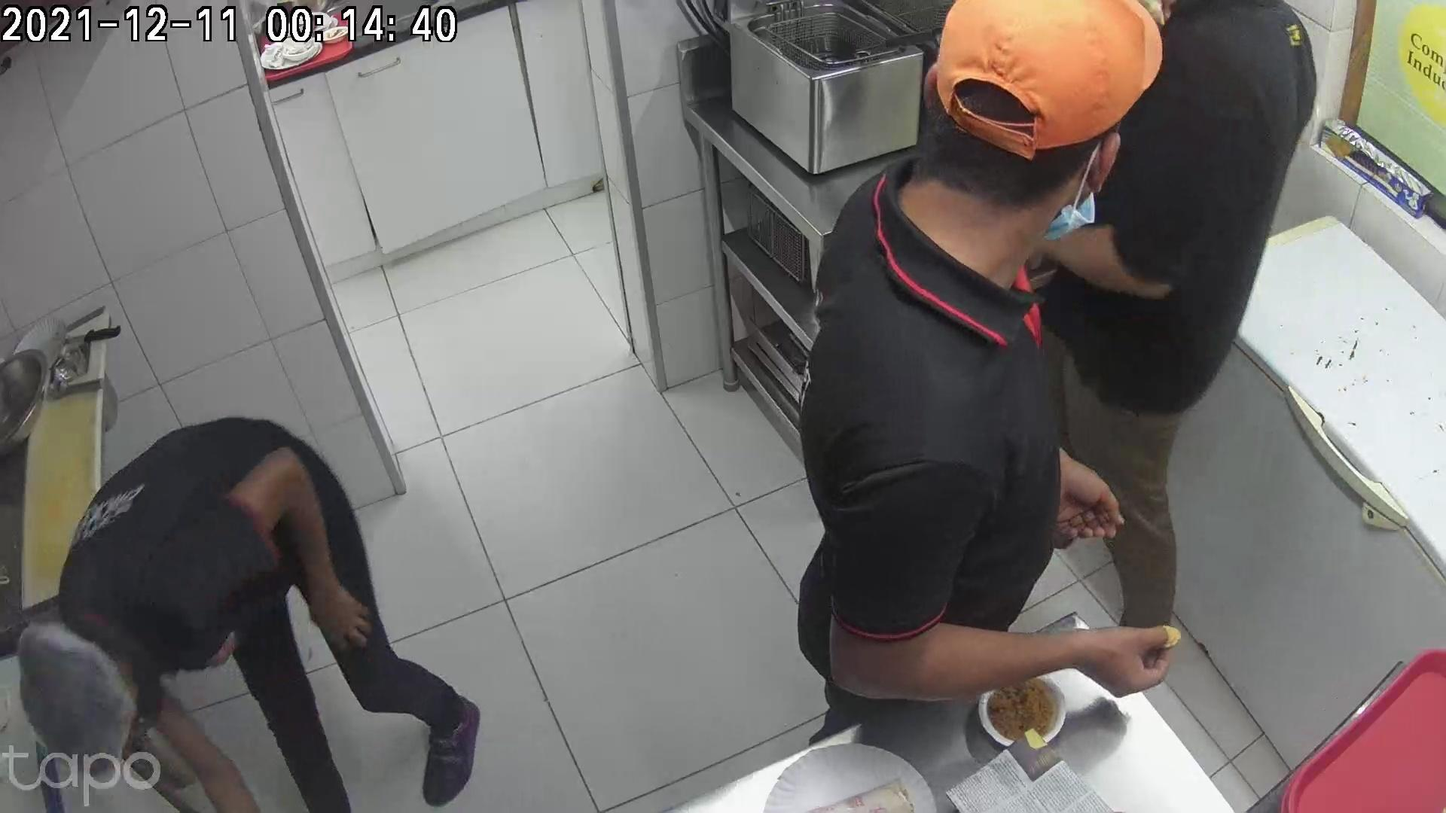no_gloves: (435, 550, 565, 618)
